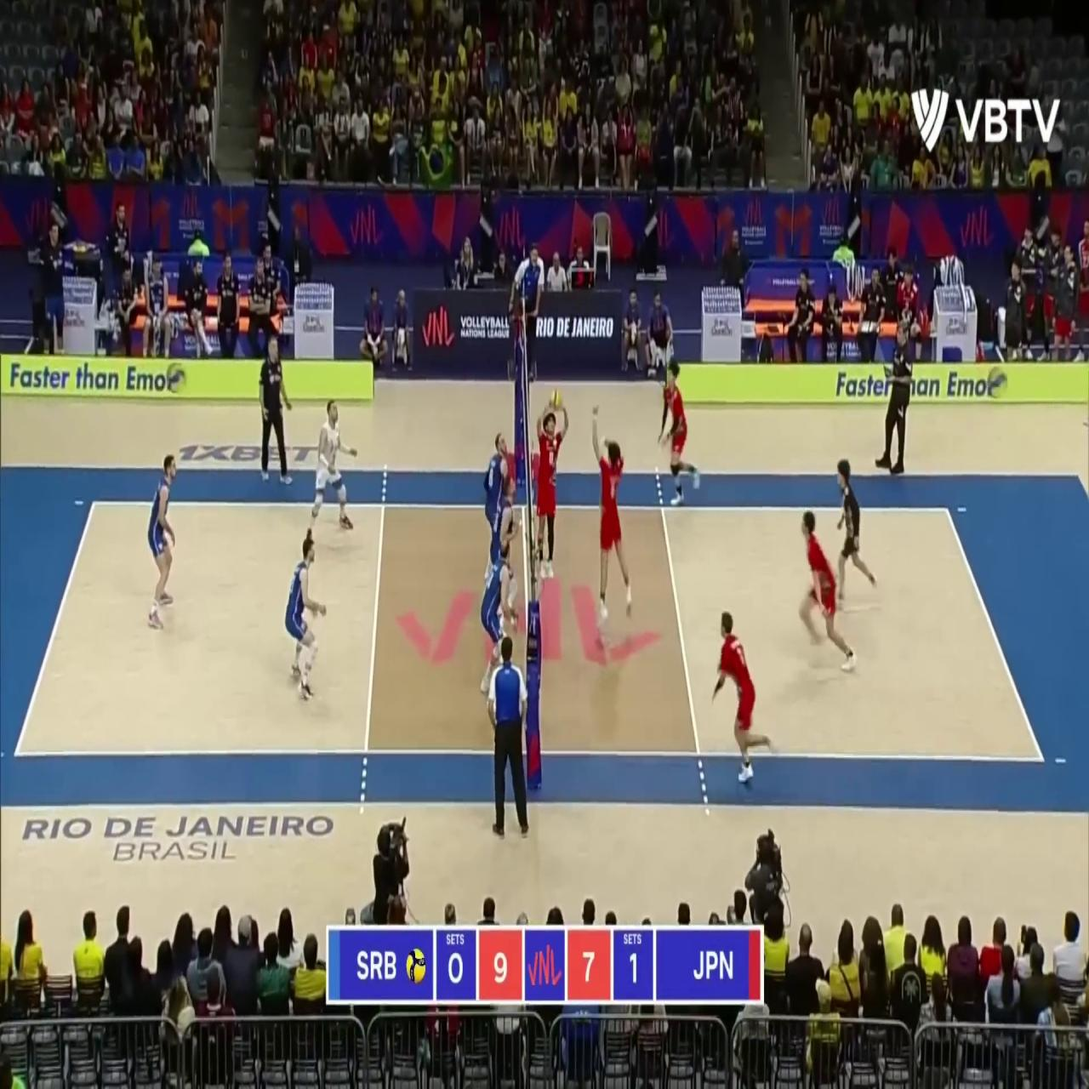ball: (550, 389, 562, 411)
